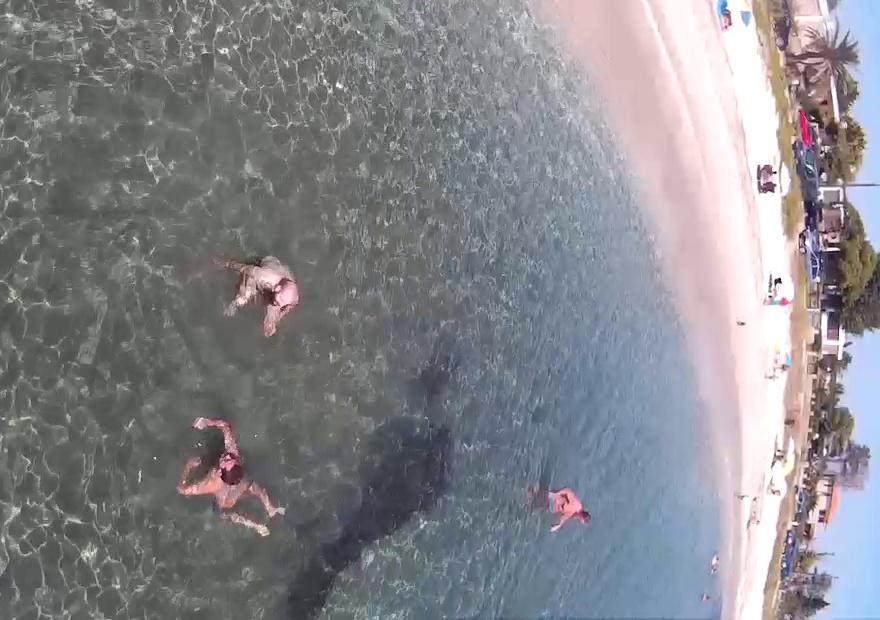human: (182, 394, 274, 558), (210, 236, 308, 342), (524, 484, 586, 534)
